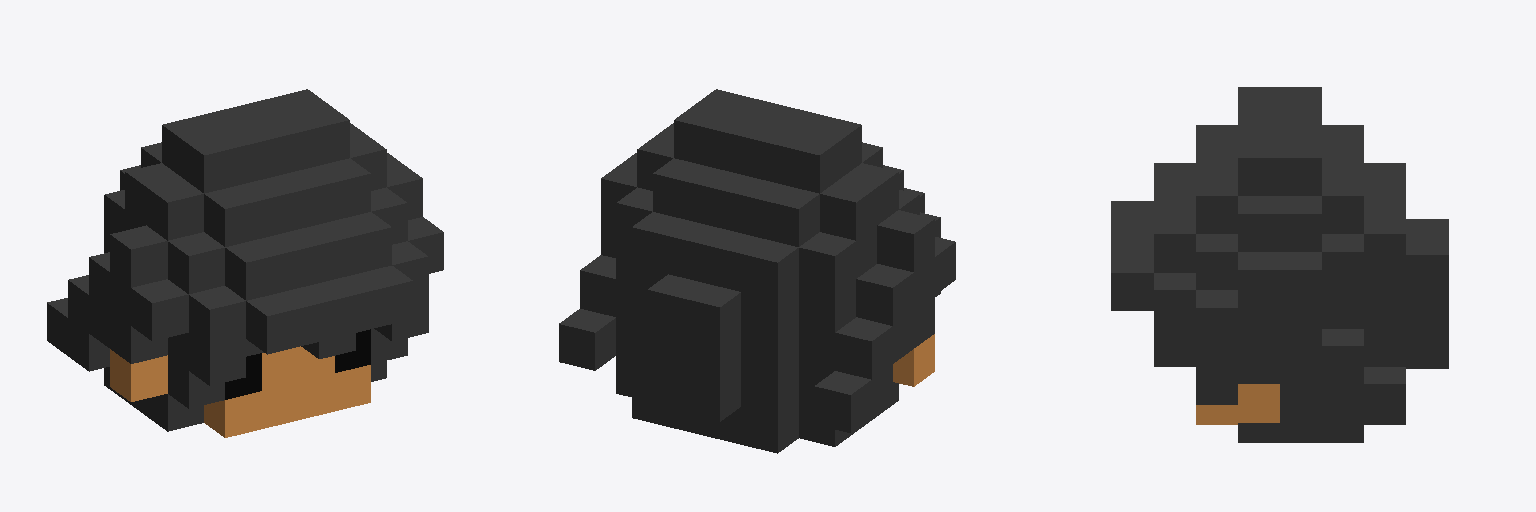
3 views of the same model, side by side, from view 1: azimuth 30°, elevation 25°; view 2: azimuth 150°, elevation 25°; view 3: azimuth 270°, elevation 25° (orthographic).
Bounding box in the file's own units: 8 × 7 × 8.
Materials: 1 (1 with a texture image).